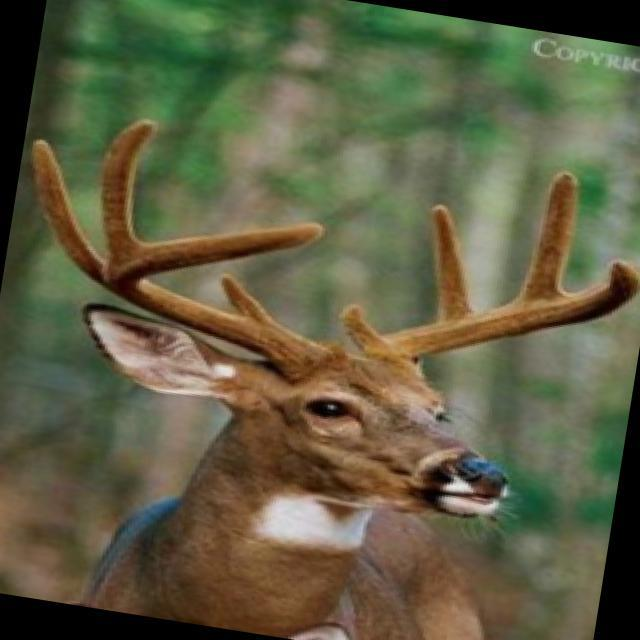L-F: (364, 256, 640, 389)
L-G1: (337, 301, 383, 355)
L-G2: (430, 201, 474, 325)
L-G3: (516, 169, 582, 301)
R-F: (103, 220, 336, 383)
R-G1: (220, 271, 282, 325)
R-G2: (30, 134, 104, 286)
R-G3: (100, 118, 161, 261)
